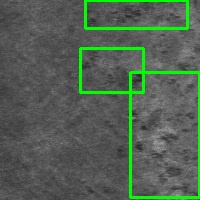rolled-in_scale: (130, 72, 199, 197), (80, 48, 143, 92), (85, 1, 187, 28)
